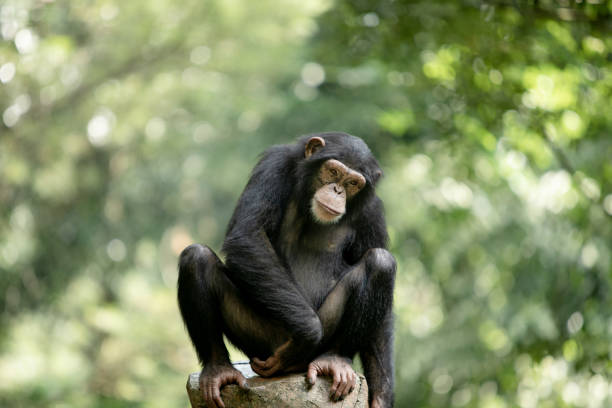chimpanzee: (273, 116, 394, 240)
